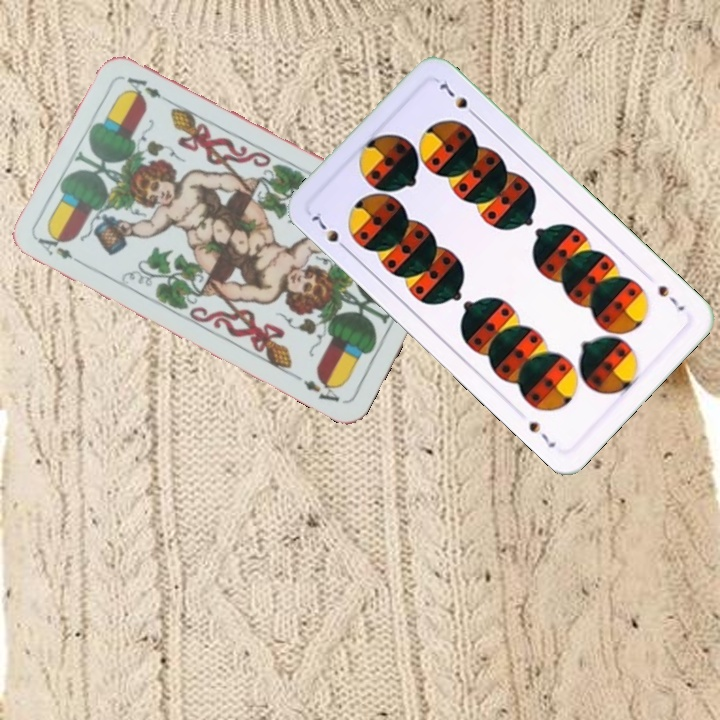EA: (33, 228, 88, 269)
S7: (306, 208, 352, 255), (654, 281, 687, 314)
